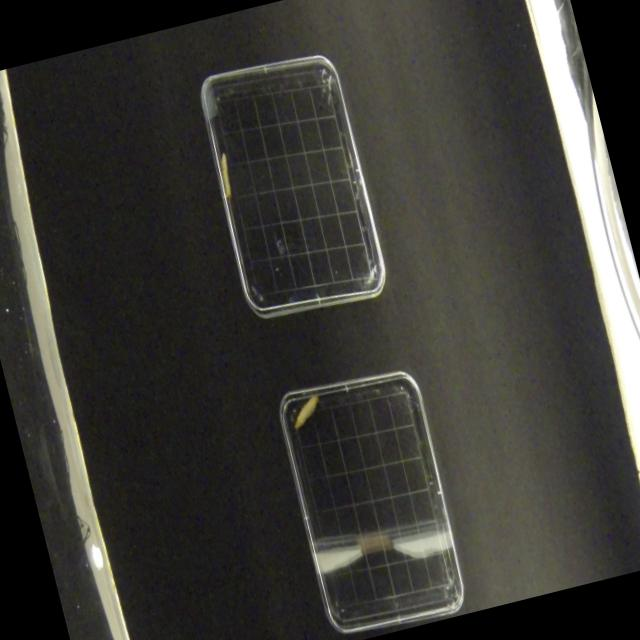larva: (213, 148, 240, 206), (288, 394, 326, 431)
